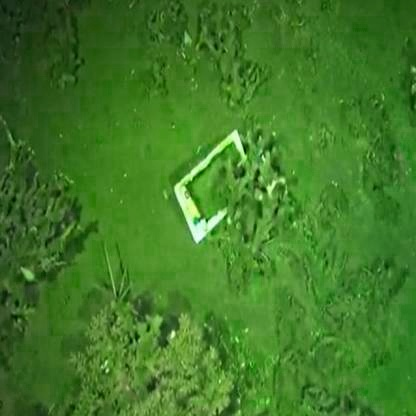misc: (170, 128, 256, 245)
